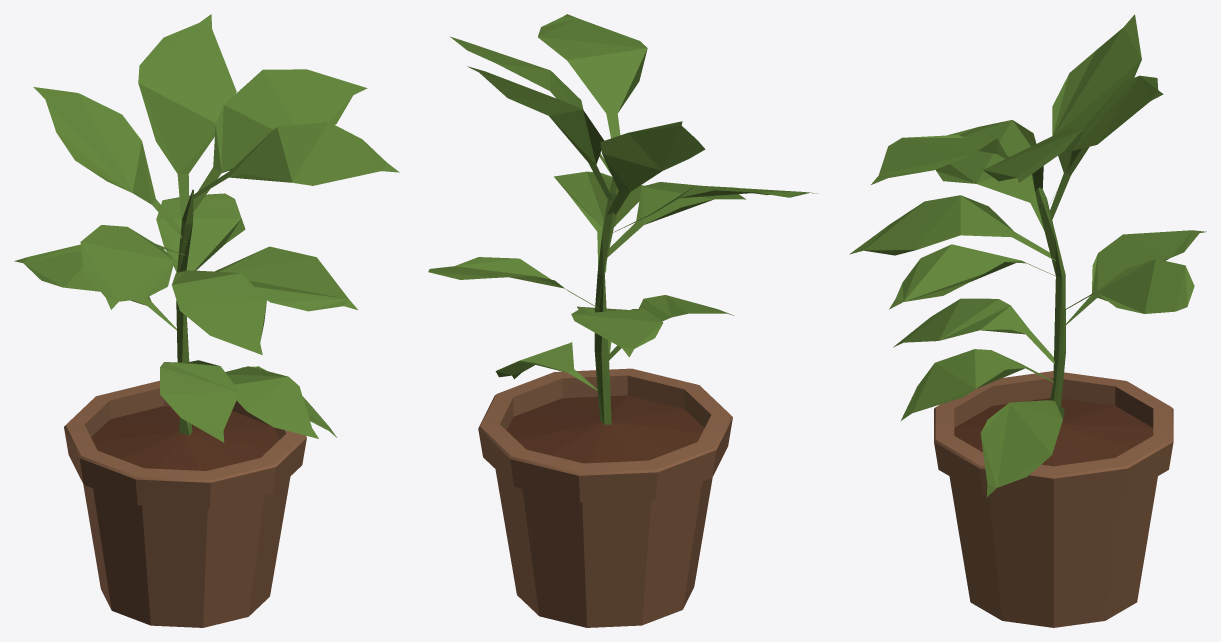
Rendered from Pot_Flower_1.fbx.
The picture shows the model from 3 angles, left to right: view 1: azimuth 30°, elevation 25°; view 2: azimuth 150°, elevation 25°; view 3: azimuth 270°, elevation 25°; orthographic projection. The views are drawn at different scales.
Parts seen in each view (by area): view 1: polySurface2349; view 2: polySurface2349; view 3: polySurface2349.
Boxes of the visible parts, x1,y1,x2,y2 form: polySurface2349: (14, 14, 399, 627); polySurface2349: (428, 14, 817, 627); polySurface2349: (849, 14, 1206, 627).
Size of the model in its own units: 0.9363 by 1.53 by 0.9224.
Materials: 1 (1 with a texture image).
